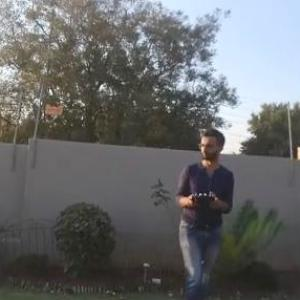follow: (169, 126, 237, 299)
